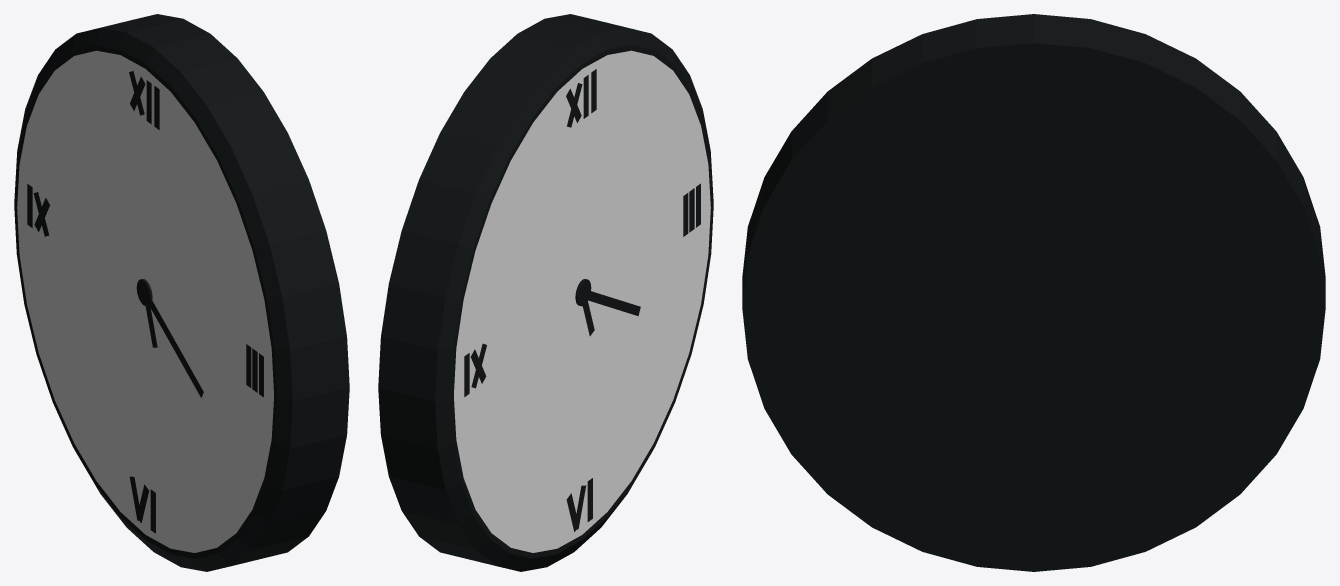
File: ClockV1.fbx
3 views of the same model, side by side, from view 1: azimuth 30°, elevation 25°; view 2: azimuth 150°, elevation 25°; view 3: azimuth 270°, elevation 25° (orthographic). The views are drawn at different scales.
Visible parts, largest first — view 1: Cube; view 2: Cube; view 3: Cube.
Part boxes in pixels (x1,y1,x2,y2): Cube: (14, 14, 349, 571); Cube: (378, 14, 713, 571); Cube: (742, 14, 1325, 571).
Size of the model in its own units: 1002 by 140 by 1002.
